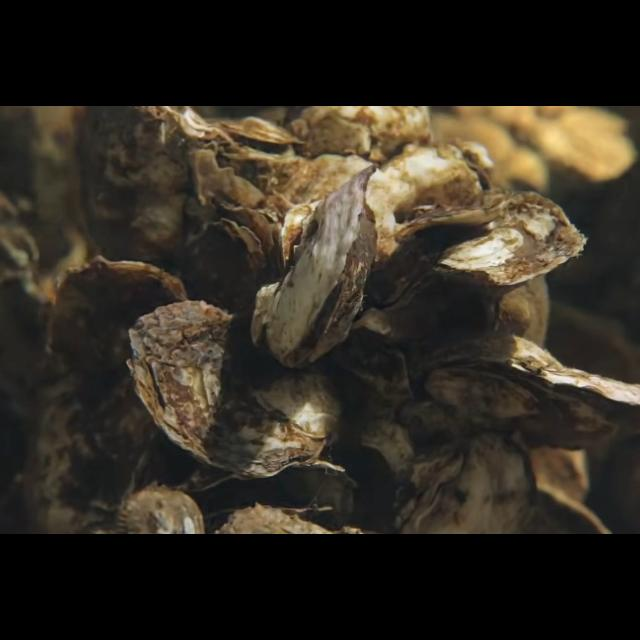Oyster-Closed: (41, 253, 192, 534), (126, 298, 347, 480), (380, 190, 588, 330), (248, 163, 380, 369), (86, 106, 226, 274), (389, 431, 541, 535), (186, 218, 266, 312)
Oyster-Open: (410, 334, 640, 456), (180, 459, 346, 518)
